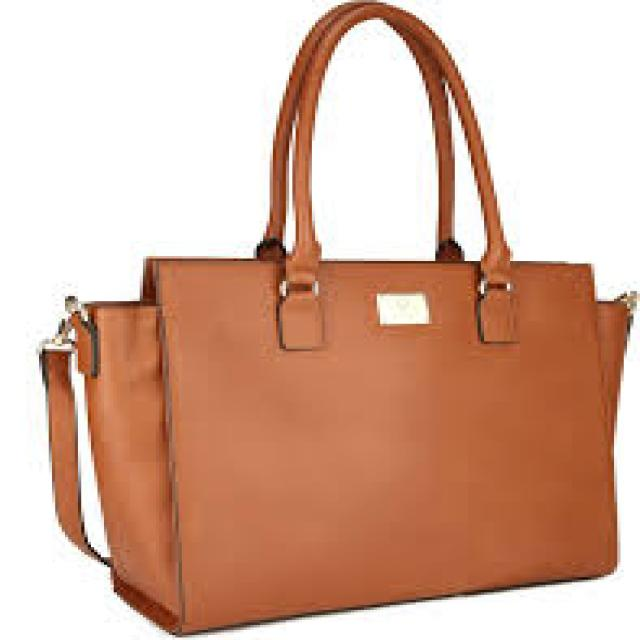handbag: (36, 0, 636, 635)
